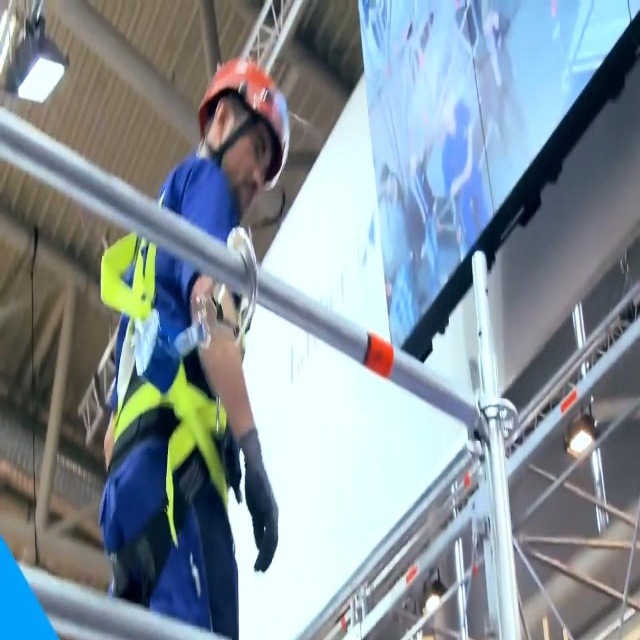Arnes_seguridad: (91, 178, 235, 596)
